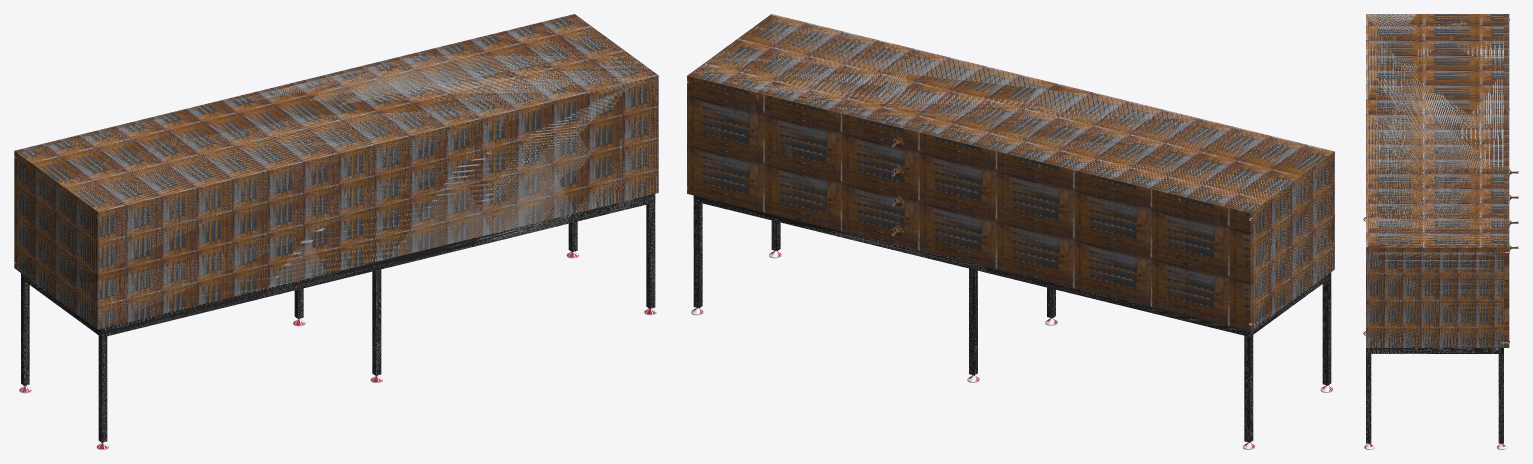
3 views of the same model, side by side, from view 1: azimuth 30°, elevation 25°; view 2: azimuth 150°, elevation 25°; view 3: azimuth 270°, elevation 25° (orthographic). The views are drawn at different scales.
Visible parts, largest first — view 1: mesh40_mesh40-geometry, mesh35_mesh35-geometry, mesh39_mesh39-geometry, mesh10_mesh10-geometry; view 2: mesh10_mesh10-geometry, mesh40_mesh40-geometry, mesh39_mesh39-geometry, mesh35_mesh35-geometry; view 3: mesh40_mesh40-geometry, mesh10_mesh10-geometry, mesh35_mesh35-geometry.
Part boxes in pixels (x1=…): mesh40_mesh40-geometry: x1=18, y1=16, x2=658, y2=329; mesh35_mesh35-geometry: x1=21, y1=194, x2=655, y2=442; mesh39_mesh39-geometry: x1=17, y1=153, x2=98, y2=329; mesh10_mesh10-geometry: x1=14, y1=14, x2=577, y2=269; mesh10_mesh10-geometry: x1=687, y1=73, x2=1253, y2=330; mesh40_mesh40-geometry: x1=690, y1=14, x2=1334, y2=210; mesh39_mesh39-geometry: x1=1253, y1=152, x2=1334, y2=328; mesh35_mesh35-geometry: x1=693, y1=195, x2=1331, y2=442; mesh40_mesh40-geometry: x1=1366, y1=14, x2=1503, y2=347; mesh10_mesh10-geometry: x1=1501, y1=14, x2=1509, y2=347; mesh35_mesh35-geometry: x1=1366, y1=348, x2=1503, y2=443.
Size of the model in its own units: 0.8362 by 0.3392 by 0.2346.
